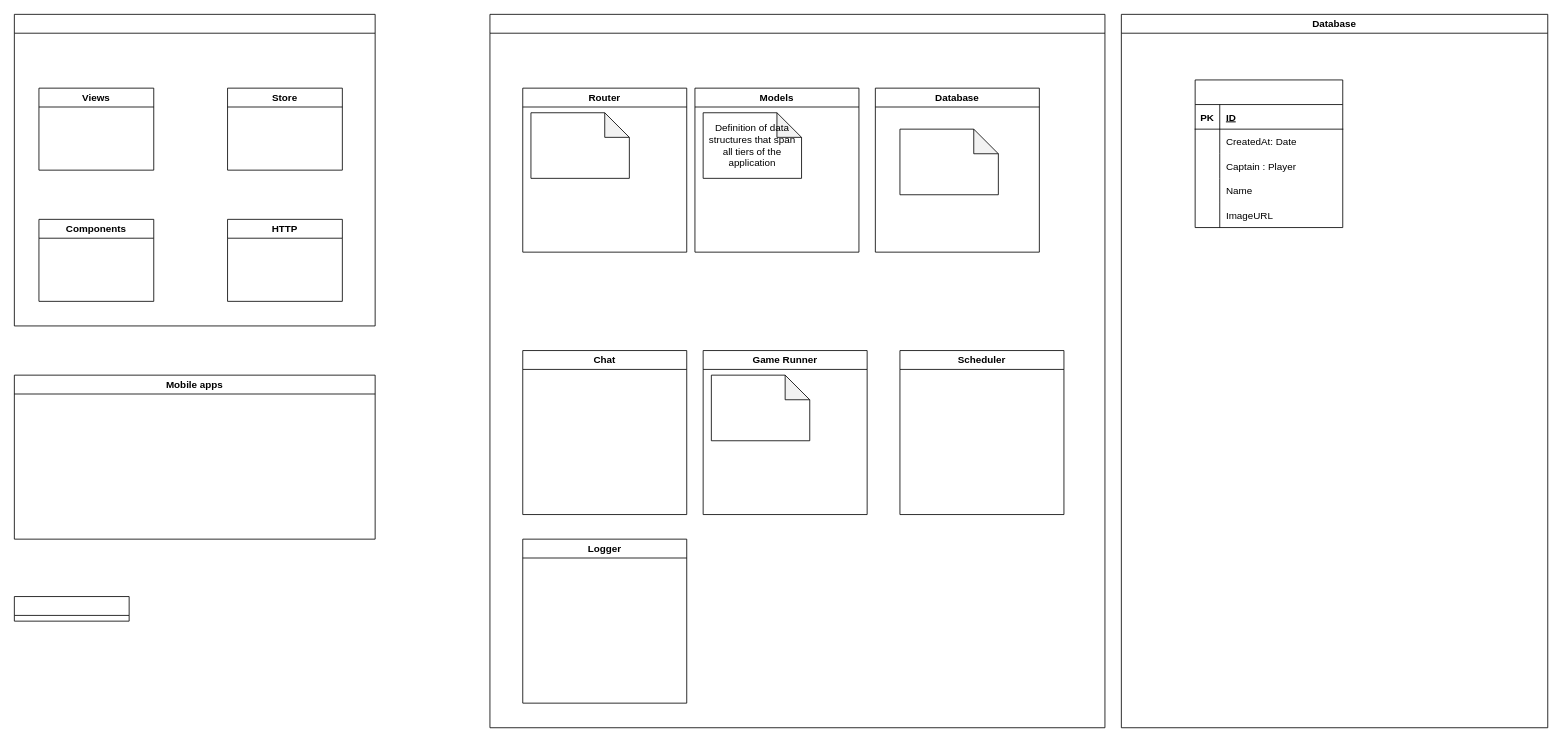
Some shapes in this 1562 by 742 pixel diagram are drawn without their labels. Each missing label, with the box of its shape:
Creates and handles HTTP routes: (530, 112, 629, 178)
Needs to cover game stats: (711, 374, 810, 441)
Responsible for connecting, CRUD operations, and monitoring database health: (899, 128, 998, 195)
Score board app: (14, 596, 129, 621)
Server: (489, 14, 1105, 728)
Team: (1194, 79, 1343, 228)
Web app: (14, 14, 375, 326)
